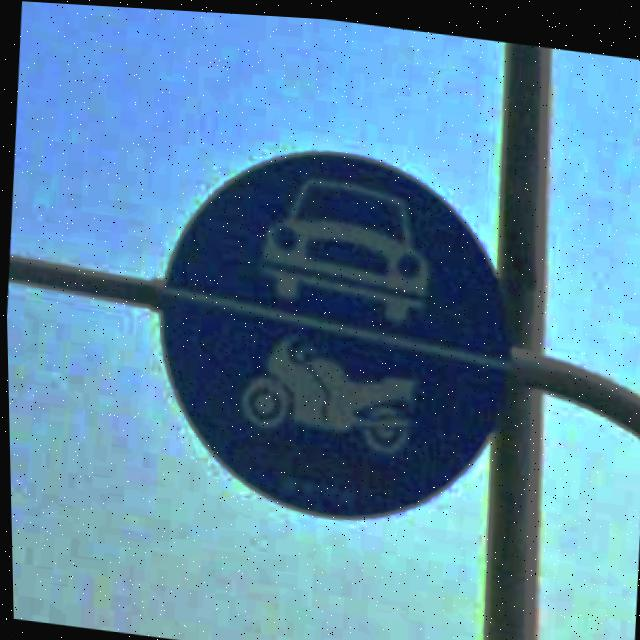carmotorcycle: (139, 122, 528, 535)
